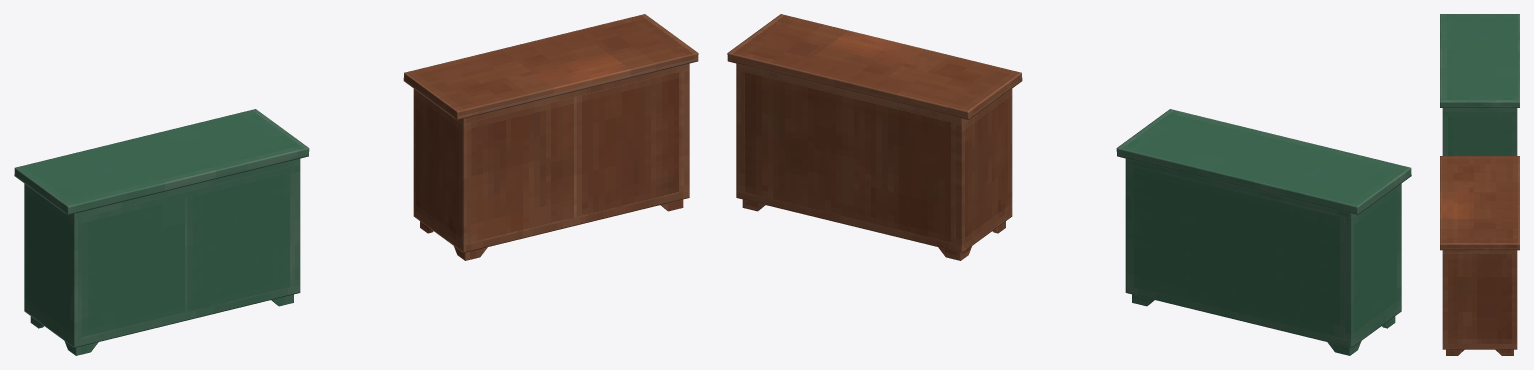
Rendered from a_com_house_a01_shelf01.gltf.
3 views of the same model, side by side, from view 1: azimuth 30°, elevation 25°; view 2: azimuth 150°, elevation 25°; view 3: azimuth 270°, elevation 25° (orthographic). The views are drawn at different scales.
Parts seen in each view (by area): view 1: um_a_com_house_a01_shelf01_model_a_com_house_a01_shelf01_mod (×2); view 2: um_a_com_house_a01_shelf01_model_a_com_house_a01_shelf01_mod (×2); view 3: um_a_com_house_a01_shelf01_model_a_com_house_a01_shelf01_mod (×2).
Part boxes in pixels (x1,y1,x2,y2): um_a_com_house_a01_shelf01_model_a_com_house_a01_shelf01_mod (×2): (14,14,698,355); um_a_com_house_a01_shelf01_model_a_com_house_a01_shelf01_mod (×2): (727,14,1411,355); um_a_com_house_a01_shelf01_model_a_com_house_a01_shelf01_mod (×2): (1440,14,1519,355).
Bounding box in the file's own units: 4.05 × 0.9507 × 0.5944.
2 materials, 2 textured.
